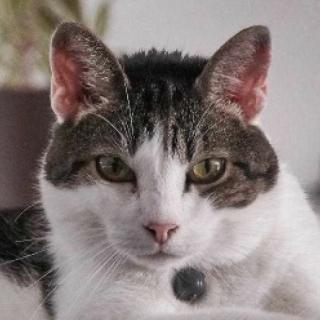cat: (42, 18, 273, 279)
nose: (136, 189, 190, 246)
